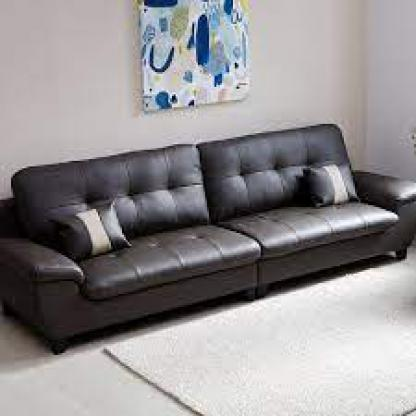sofa: (0, 126, 405, 351)
